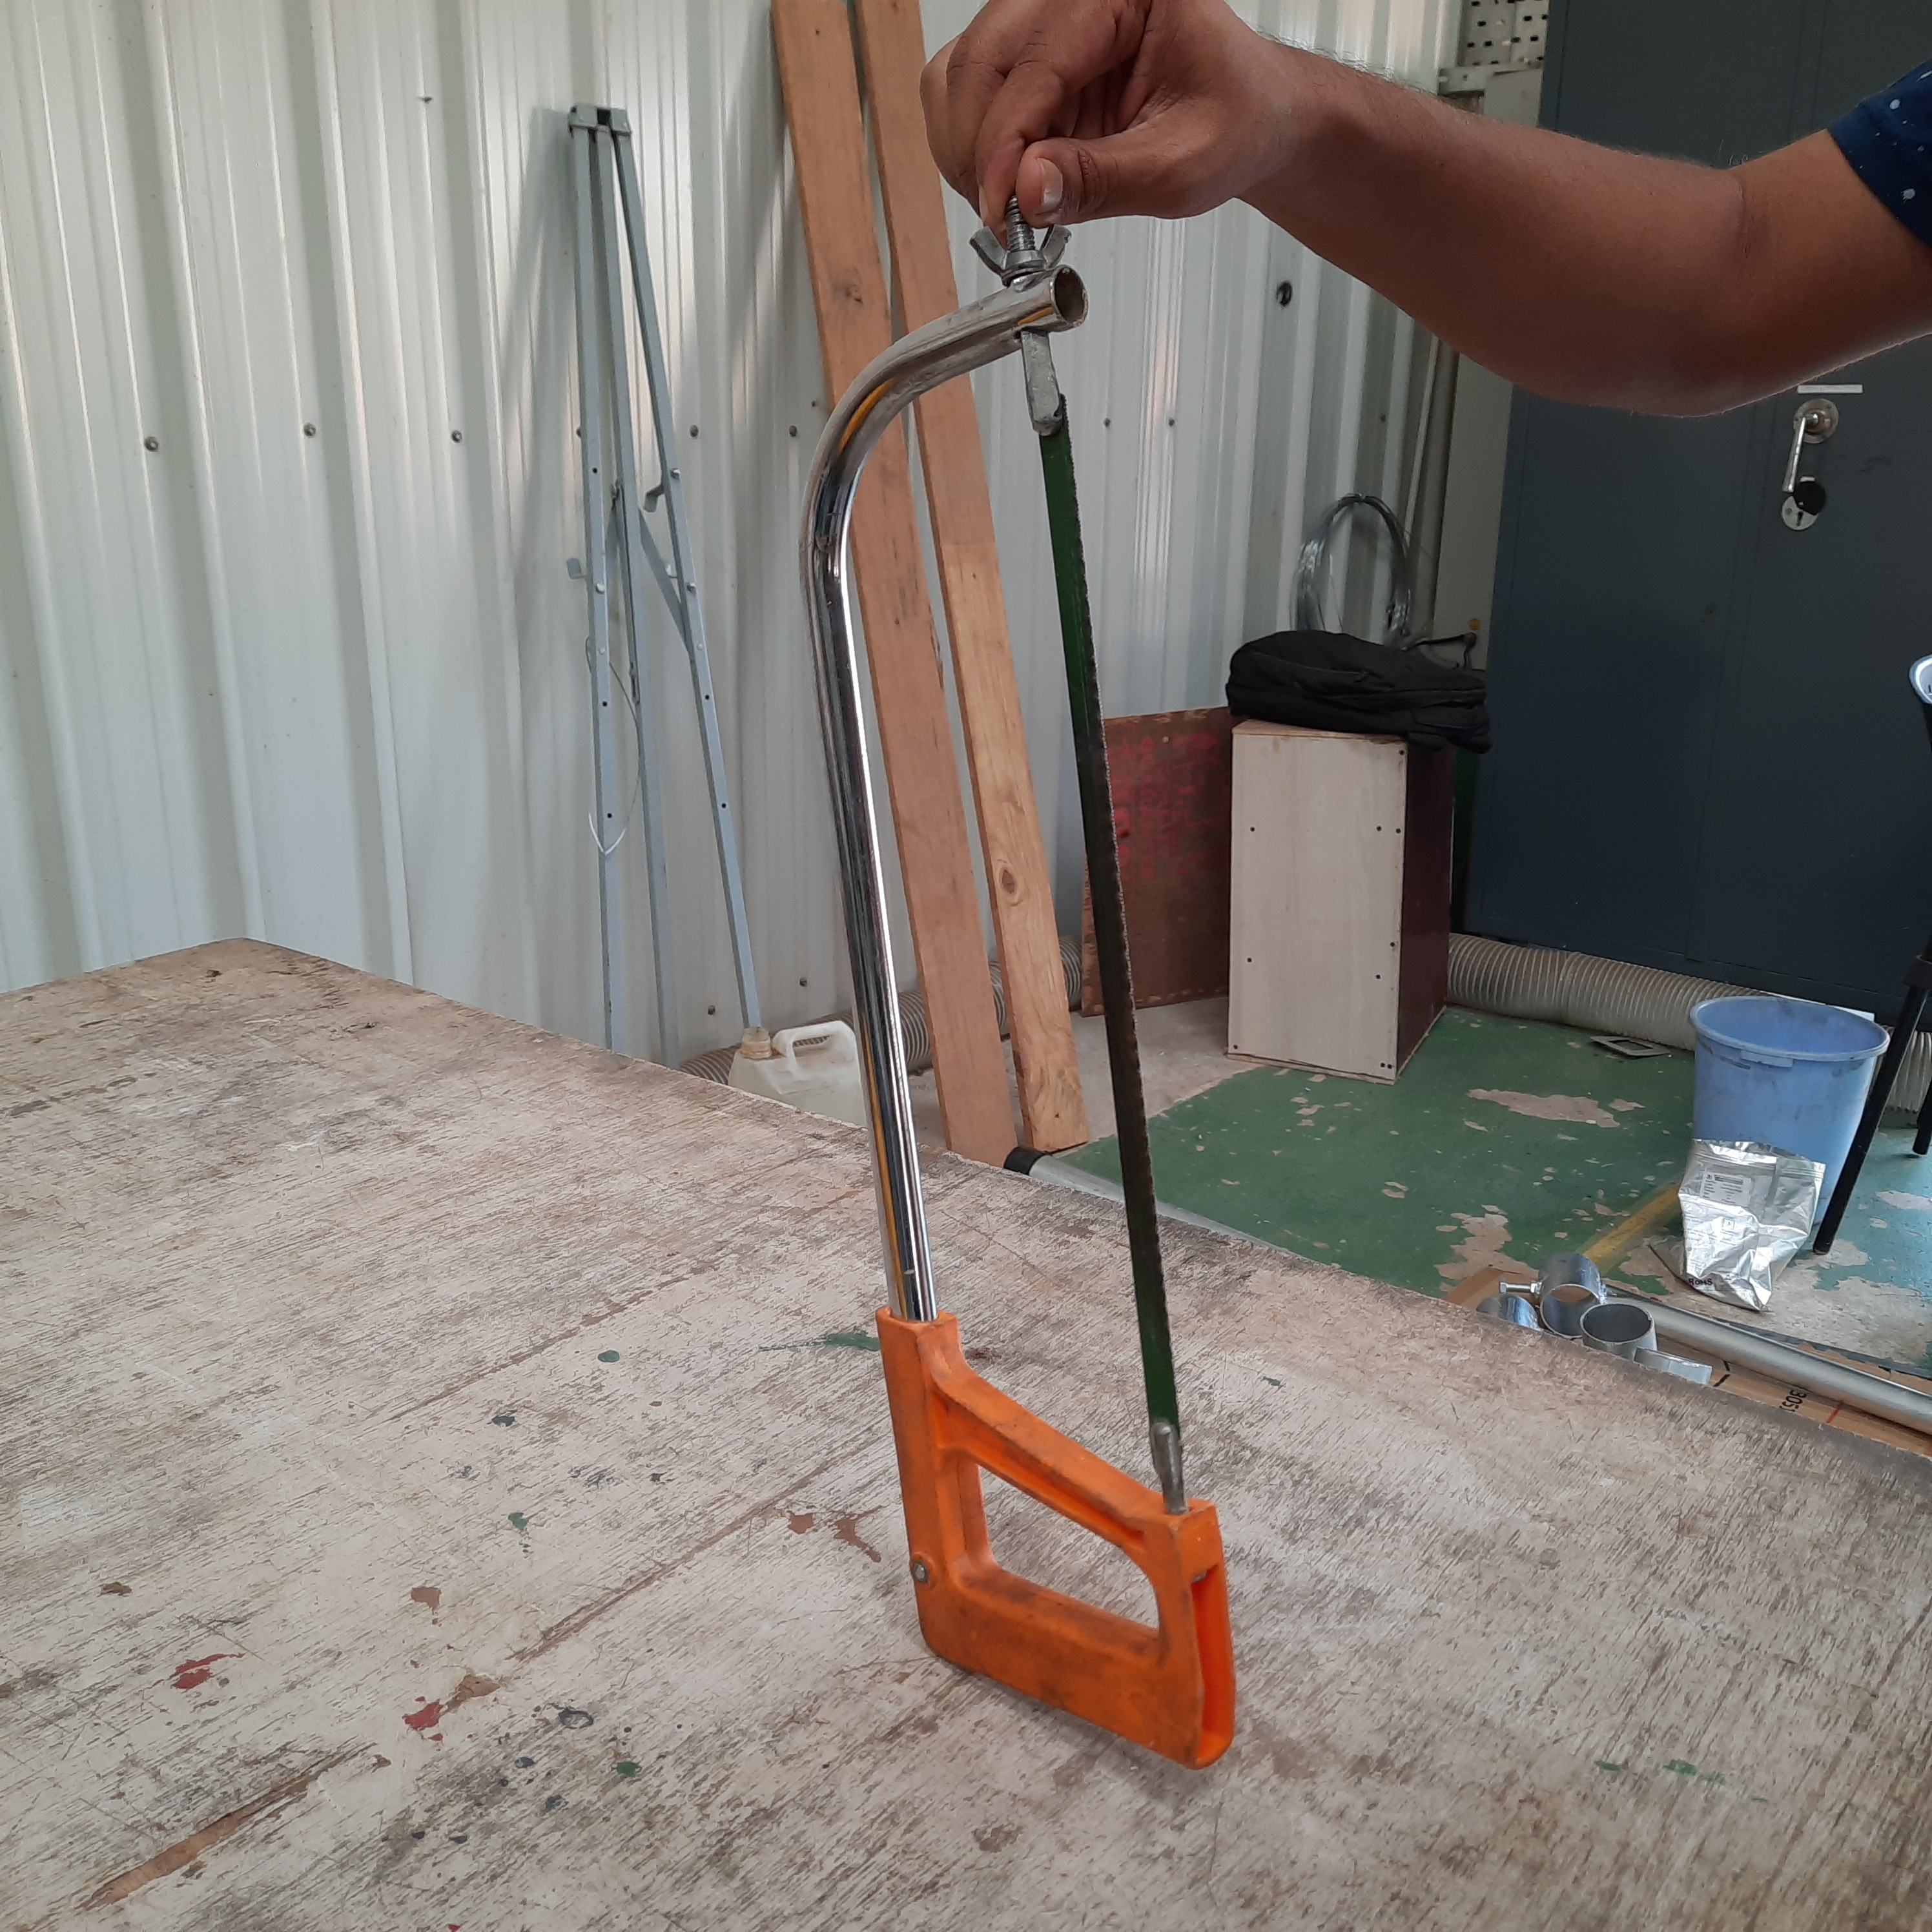Hexaframe: (763, 203, 1339, 1787)
